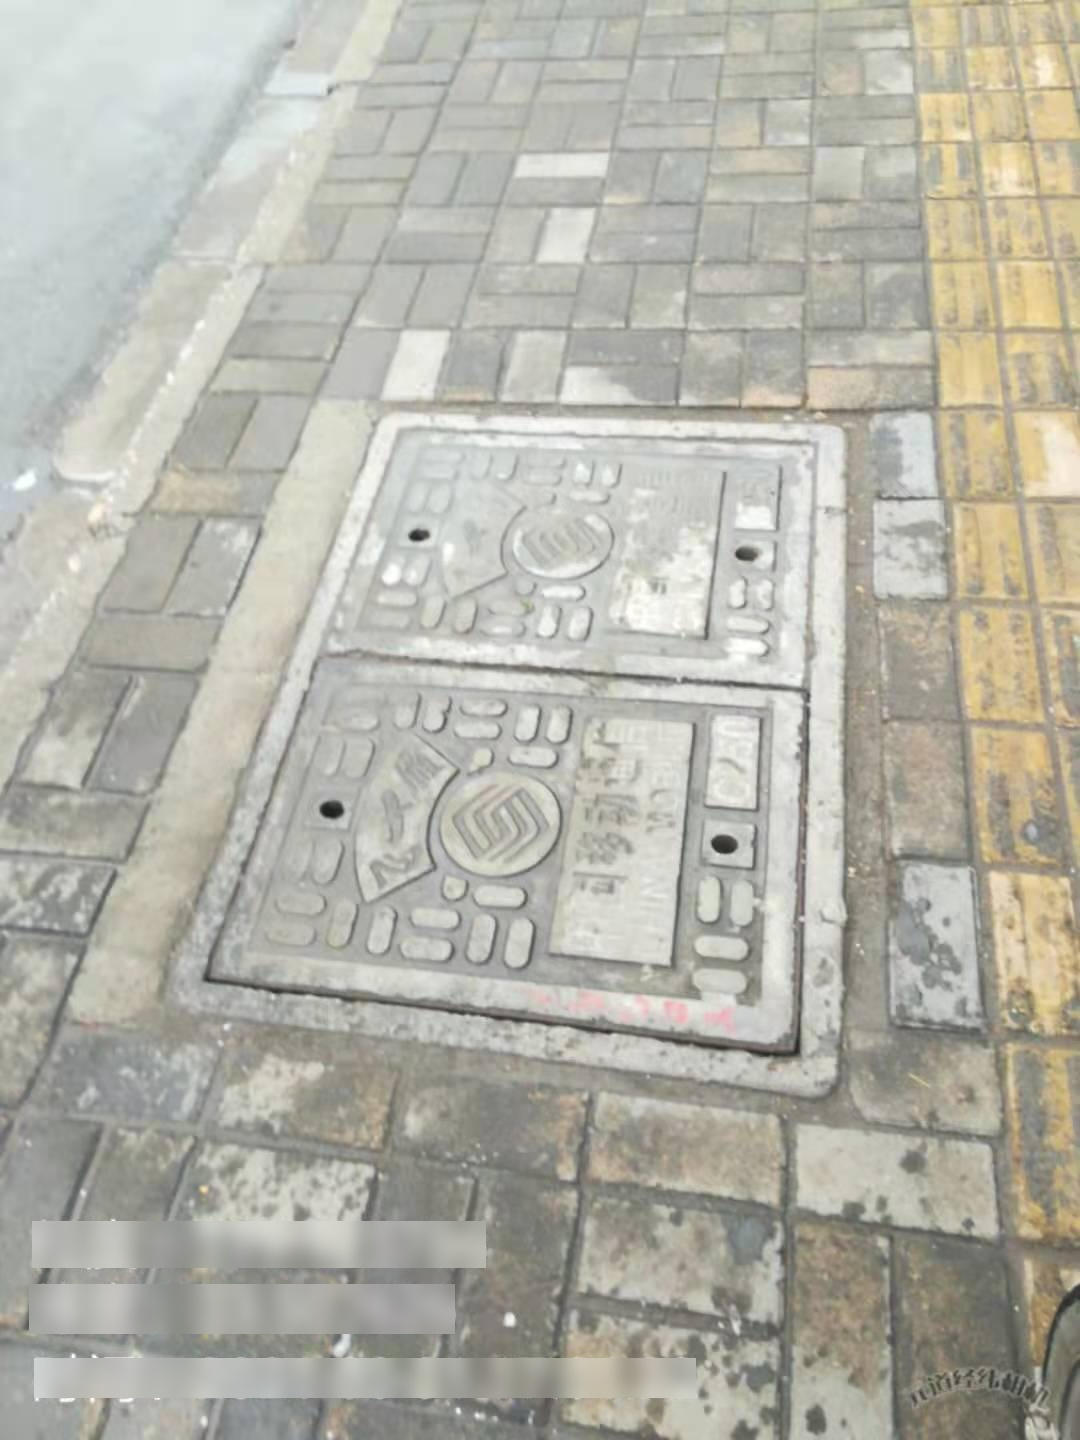good: (158, 412, 845, 1100)
